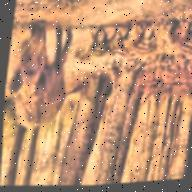boar: (3, 9, 76, 138), (72, 16, 113, 76), (115, 25, 158, 61), (166, 17, 192, 61), (100, 31, 115, 60)
